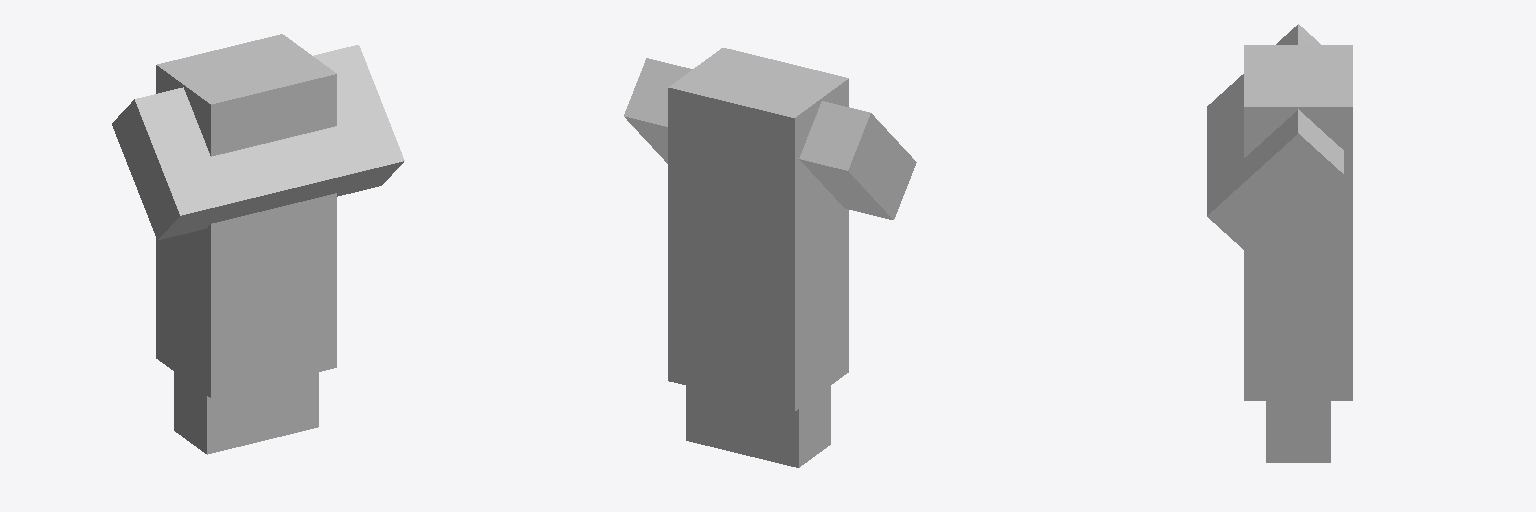
Rendered from villager_body.obj.
3 views of the same model, side by side, from view 1: azimuth 30°, elevation 25°; view 2: azimuth 150°, elevation 25°; view 3: azimuth 270°, elevation 25° (orthographic).
Parts seen in each view (by area): view 1: Cube.003; view 2: Cube.003; view 3: Cube.003.
Boxes of the visible parts, x1,y1,x2,y2 form: Cube.003: [112, 34, 404, 454]; Cube.003: [624, 48, 916, 467]; Cube.003: [1207, 24, 1352, 462].
Bounding box in the file's own units: 1 × 1.53 × 0.5645.